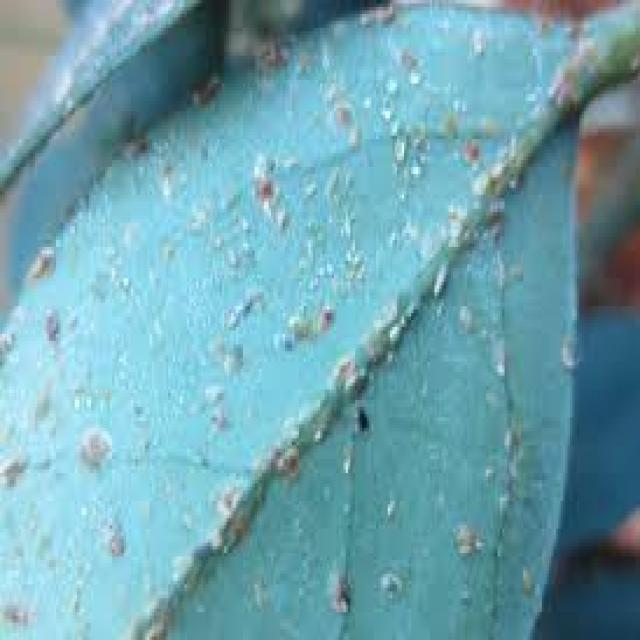scale_insect: (72, 414, 114, 473), (19, 233, 56, 282), (94, 515, 133, 560), (322, 567, 353, 623), (246, 160, 280, 205), (371, 556, 404, 602), (182, 66, 217, 108), (446, 511, 479, 553), (274, 435, 302, 483), (327, 341, 355, 386), (327, 91, 357, 132), (311, 292, 336, 338), (458, 126, 483, 170), (37, 299, 61, 344), (395, 38, 423, 73)
